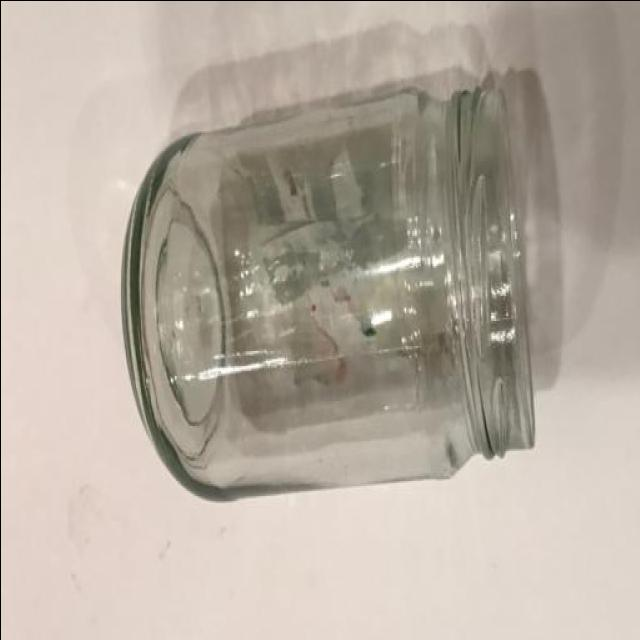glass: (112, 61, 560, 521)
